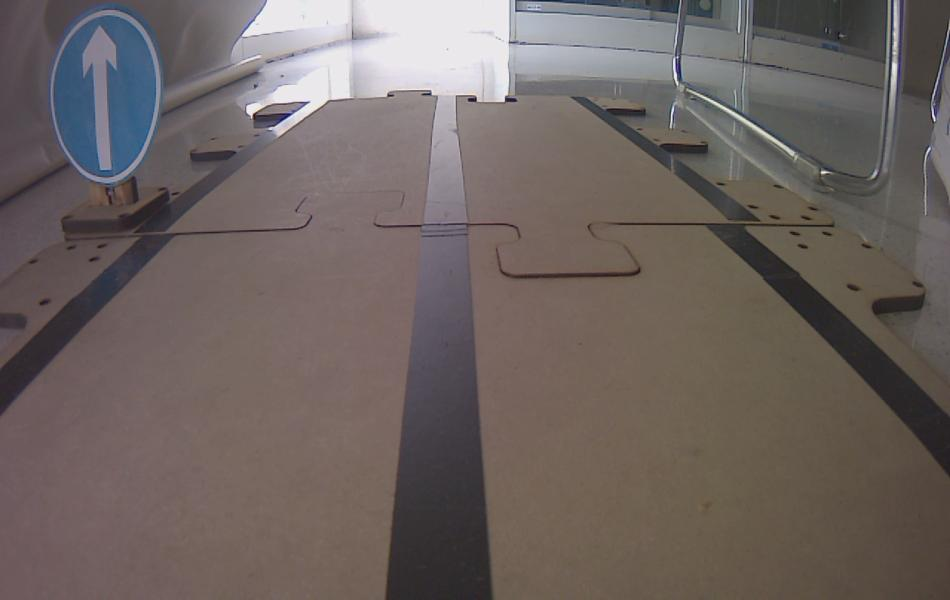straight: (49, 8, 160, 185)
